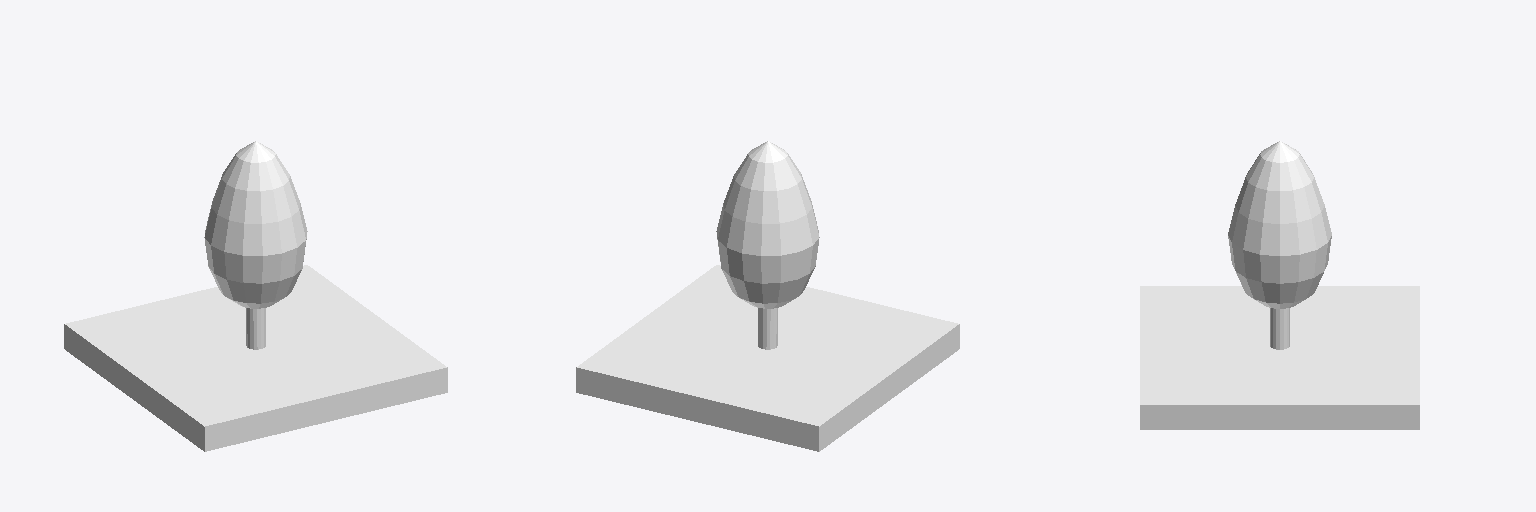
The model's file is Tree.obj.
3 views of the same model, side by side, from view 1: azimuth 30°, elevation 25°; view 2: azimuth 150°, elevation 25°; view 3: azimuth 270°, elevation 25° (orthographic).
Visible parts, largest first — view 1: cube1_sep3, cube1_sep2, cube1; view 2: cube1_sep3, cube1_sep2, cube1; view 3: cube1_sep3, cube1_sep2, cube1.
Part boxes in pixels (x1,y1,x2,y2): cube1_sep3: (64, 265, 447, 451); cube1_sep2: (204, 141, 307, 308); cube1: (246, 308, 265, 349); cube1_sep3: (576, 265, 959, 451); cube1_sep2: (716, 141, 819, 308); cube1: (758, 308, 777, 349); cube1_sep3: (1140, 286, 1419, 429); cube1_sep2: (1228, 141, 1331, 308); cube1: (1270, 308, 1289, 349).
Size of the model in its own units: 1 by 0.9052 by 1.